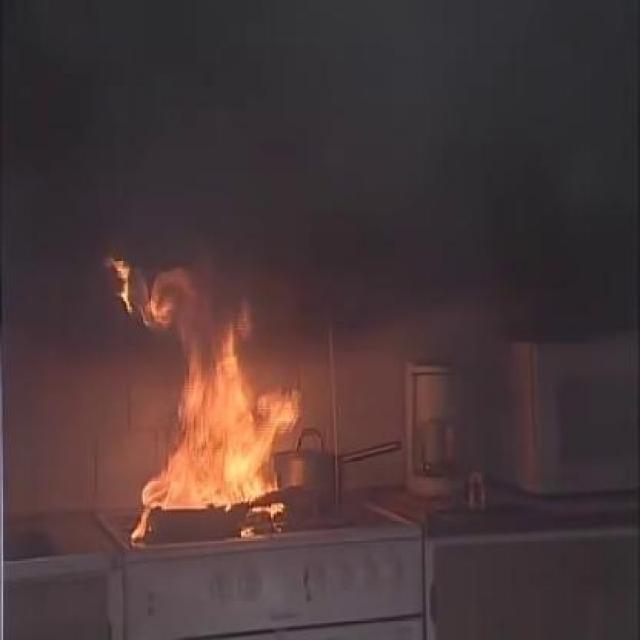fire: (110, 237, 292, 534)
